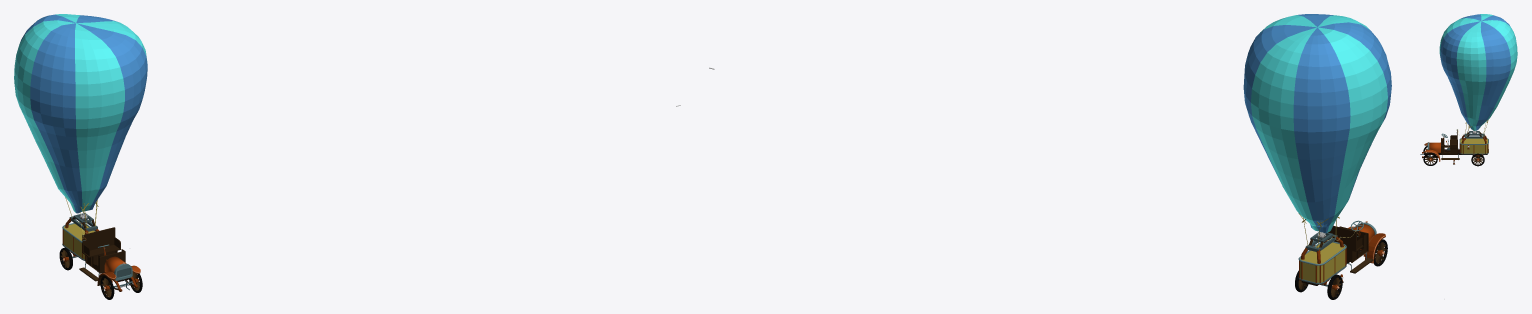
File: laurent_lanterne2.fbx
3 renders of one model, left to right at view 1: azimuth 30°, elevation 25°; view 2: azimuth 150°, elevation 25°; view 3: azimuth 270°, elevation 25°, orthographic. The views are drawn at different scales.
Visible parts, largest first — view 1: Enveloppe, Dossier, nacelle; view 2: Enveloppe, nacelle; view 3: Enveloppe, nacelle, CaisseRadiateur, portiere_G, SupportBruleursBase, plateforme.
Part boxes in pixels (x1,y1,x2,y2): Enveloppe: [14, 14, 147, 213]; Dossier: [82, 227, 115, 252]; nacelle: [63, 224, 94, 259]; Enveloppe: [1243, 14, 1391, 233]; nacelle: [1300, 242, 1345, 282]; Enveloppe: [1439, 14, 1517, 130]; nacelle: [1460, 138, 1488, 153]; CaisseRadiateur: [1429, 142, 1440, 152]; portiere_G: [1441, 145, 1457, 154]; SupportBruleursBase: [1464, 133, 1484, 138]; plateforme: [1429, 149, 1487, 154].
Size of the model in its own units: 7841 by 2934 by 1803.
